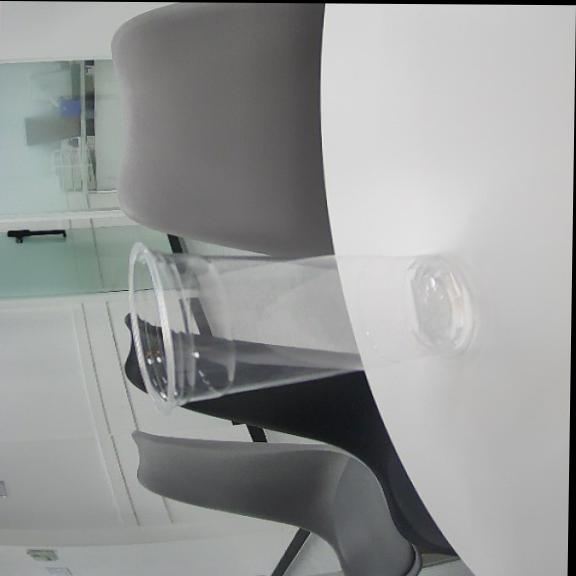Plastik: (129, 243, 472, 409)
